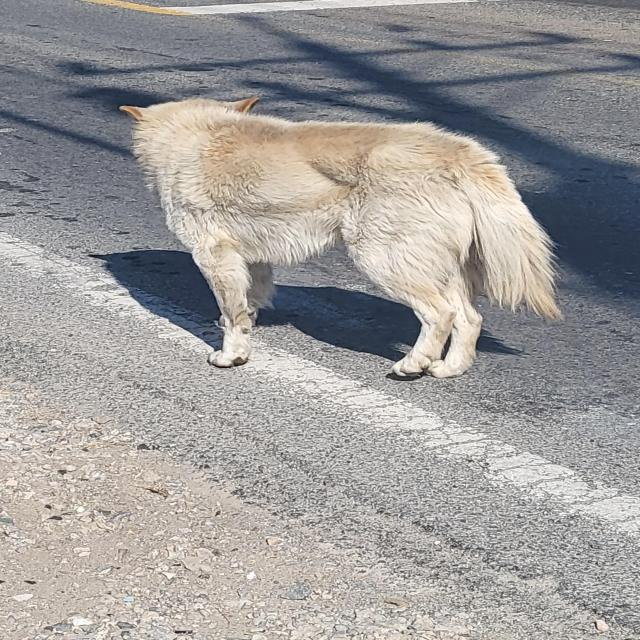dog: (80, 74, 564, 393)
